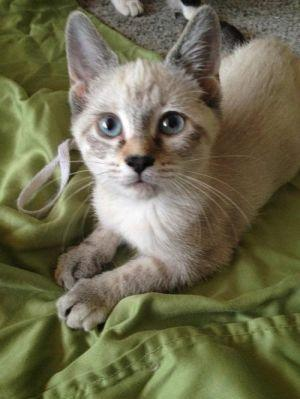siamese: (49, 1, 237, 215)
